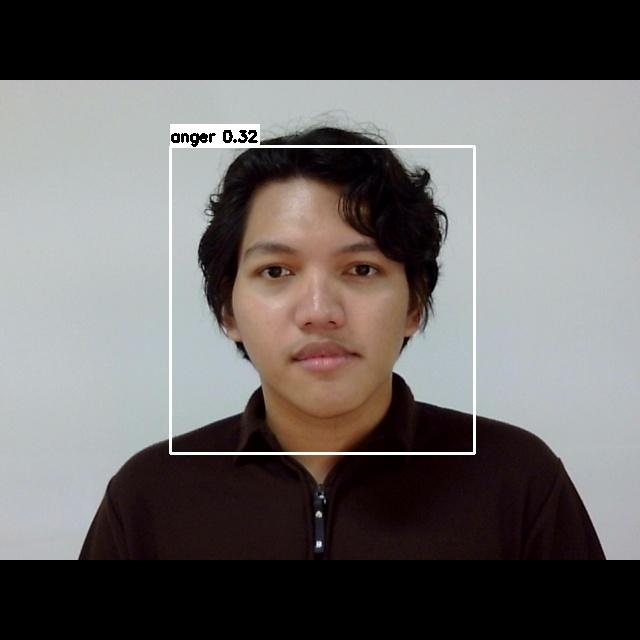Natural: (217, 214, 414, 387)
